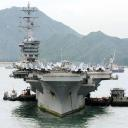Portanaves: (9, 2, 121, 120)
